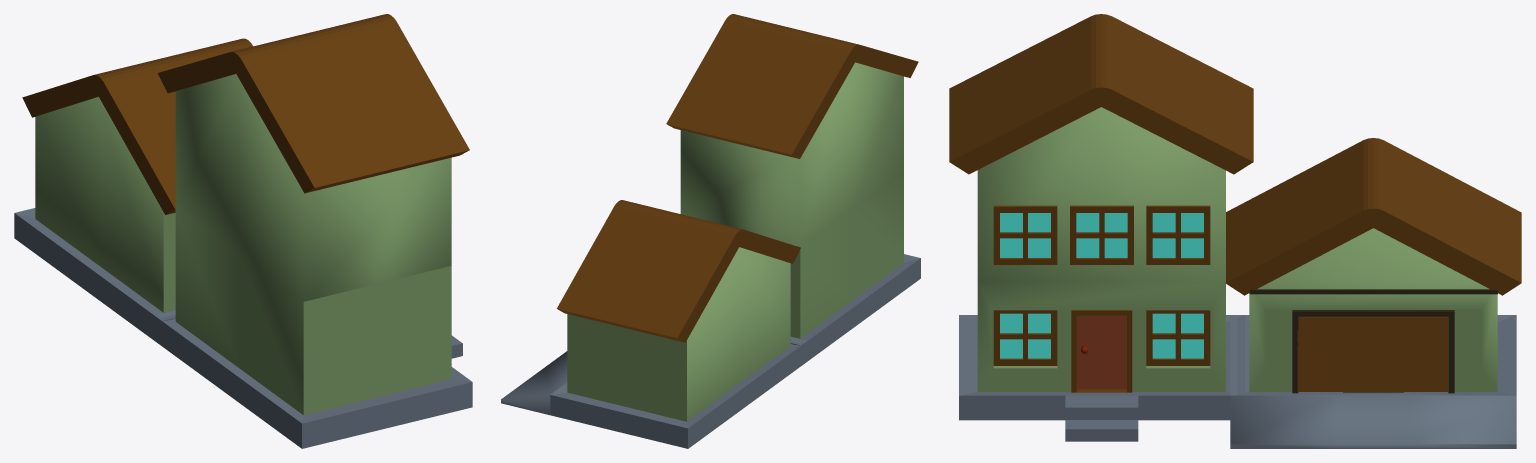
The model's file is SOUTHPARK1.fbx.
3 renders of one model, left to right at view 1: azimuth 30°, elevation 25°; view 2: azimuth 150°, elevation 25°; view 3: azimuth 270°, elevation 25°, orthographic. The views are drawn at different scales.
Parts seen in each view (by area): view 1: Main House, Roof, Main House.001, Base, Roof.001, Base.001; view 2: Main House, Main House.001, Roof, Roof.001, Base.001, Base; view 3: Main House, Roof, Roof.001, Base.001, Main House.001, Cube.001, Base, Window Frame.001, Window Frame, Glass, Door In, Glass.001 (+6 smaller).
Boxes of the visible parts, x1=… form: Main House: x1=175, y1=74, x2=451, y2=415; Roof: x1=157, y1=14, x2=469, y2=193; Main House.001: x1=35, y1=96, x2=175, y2=312; Base: x1=154, y1=310, x2=472, y2=448; Roof.001: x1=22, y1=38, x2=252, y2=214; Base.001: x1=14, y1=208, x2=175, y2=345; Main House: x1=680, y1=62, x2=903, y2=338; Main House.001: x1=567, y1=247, x2=790, y2=421; Roof: x1=666, y1=14, x2=918, y2=158; Roof.001: x1=557, y1=200, x2=800, y2=342; Base.001: x1=501, y1=337, x2=807, y2=448; Base: x1=790, y1=254, x2=920, y2=360; Main House: x1=977, y1=107, x2=1225, y2=391; Roof: x1=949, y1=14, x2=1253, y2=174; Roof.001: x1=1225, y1=138, x2=1521, y2=295; Base.001: x1=1230, y1=315, x2=1516, y2=448; Main House.001: x1=1249, y1=228, x2=1497, y2=391; Cube.001: x1=1297, y1=316, x2=1447, y2=391; Base: x1=959, y1=315, x2=1244, y2=420; Window Frame.001: x1=993, y1=205, x2=1210, y2=264; Window Frame: x1=993, y1=310, x2=1210, y2=365; Glass: x1=1000, y1=313, x2=1203, y2=358; Door In: x1=1076, y1=315, x2=1126, y2=389; Glass.001: x1=1000, y1=213, x2=1203, y2=257.
Bounding box in the file's own units: 625 × 878 × 1383.
